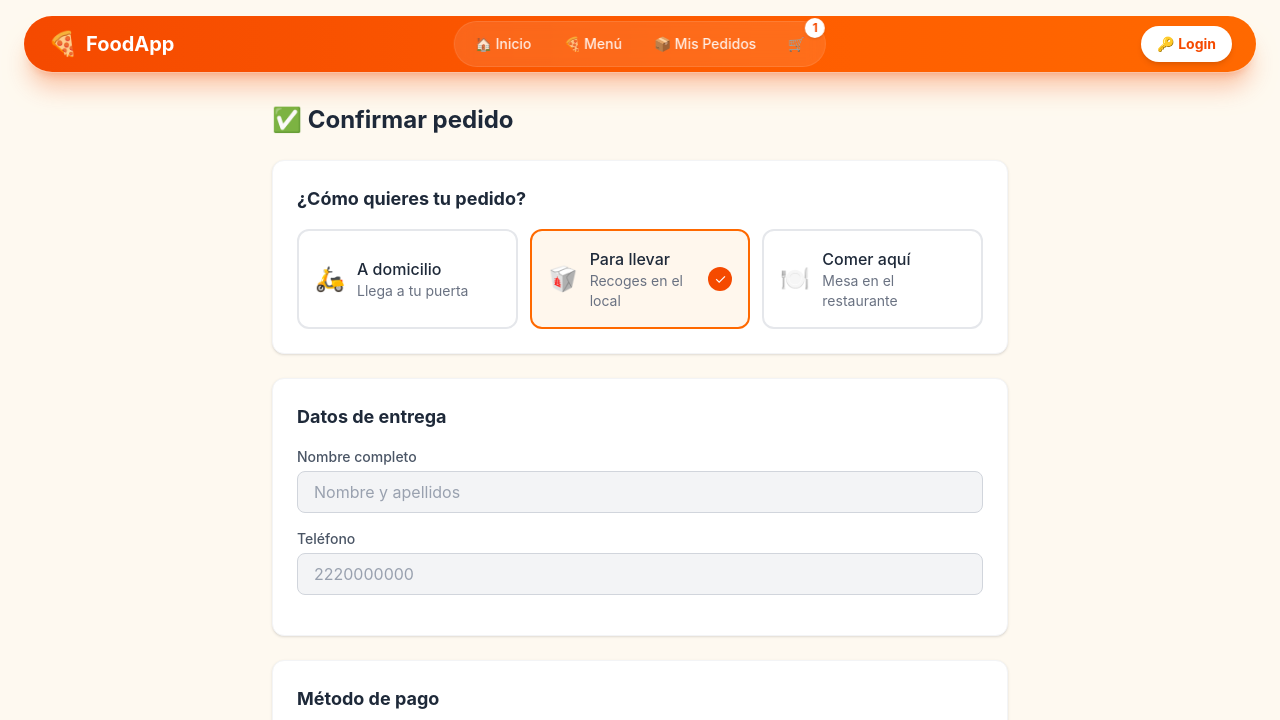
Test: CheckoutPage - modo de pedido › marca error si confirma en A domicilio sin dirección
Click the text "A domicilio": (399, 269) [357,259,441,279]
(page scrolled)
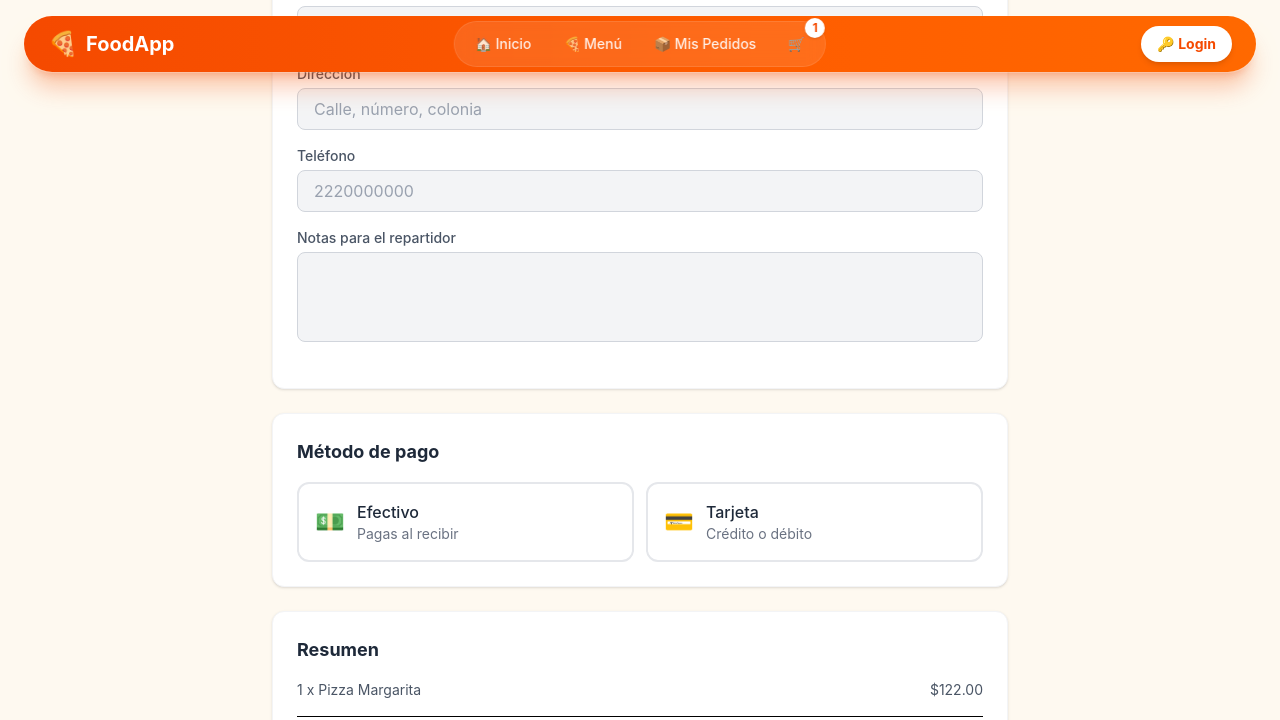
Submit the form named "Confirmar pedido"
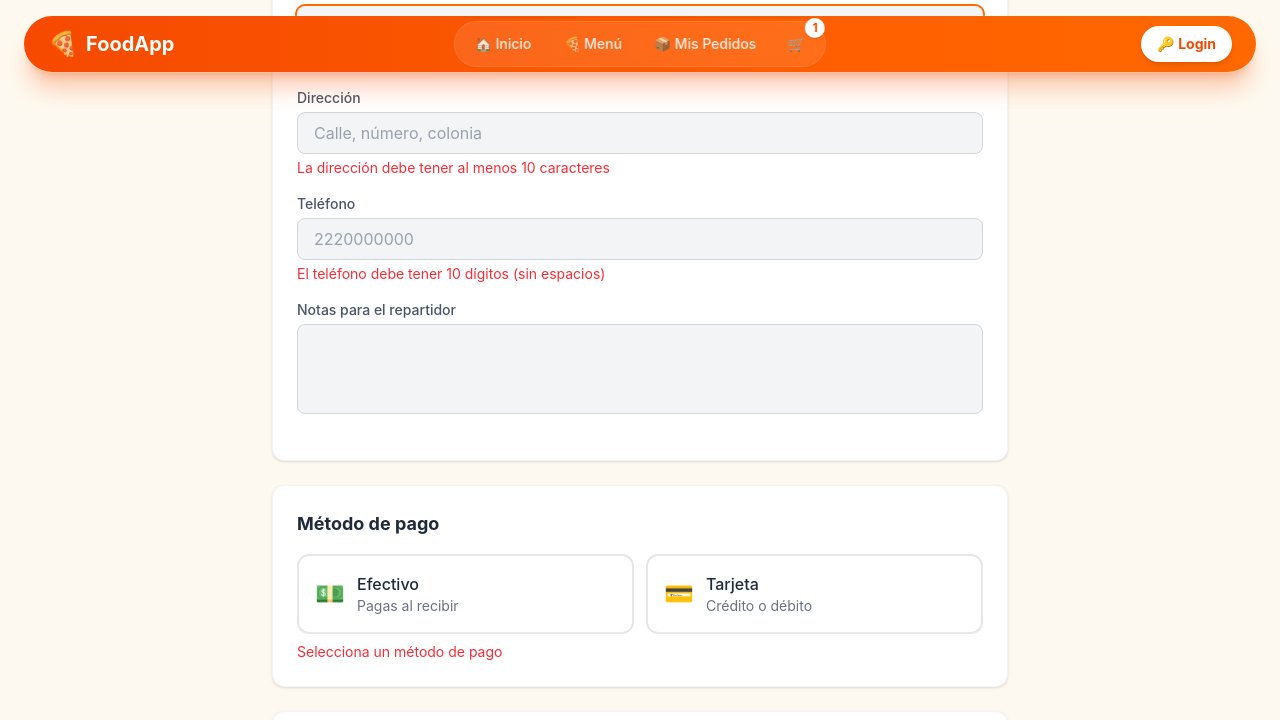
Now the text "La dirección debe tener al menos 10 caracteres" is shown, box [297,159,610,176]
